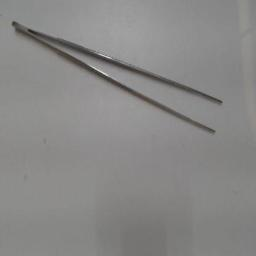DeBakey Dissector: (11, 16, 233, 142)
